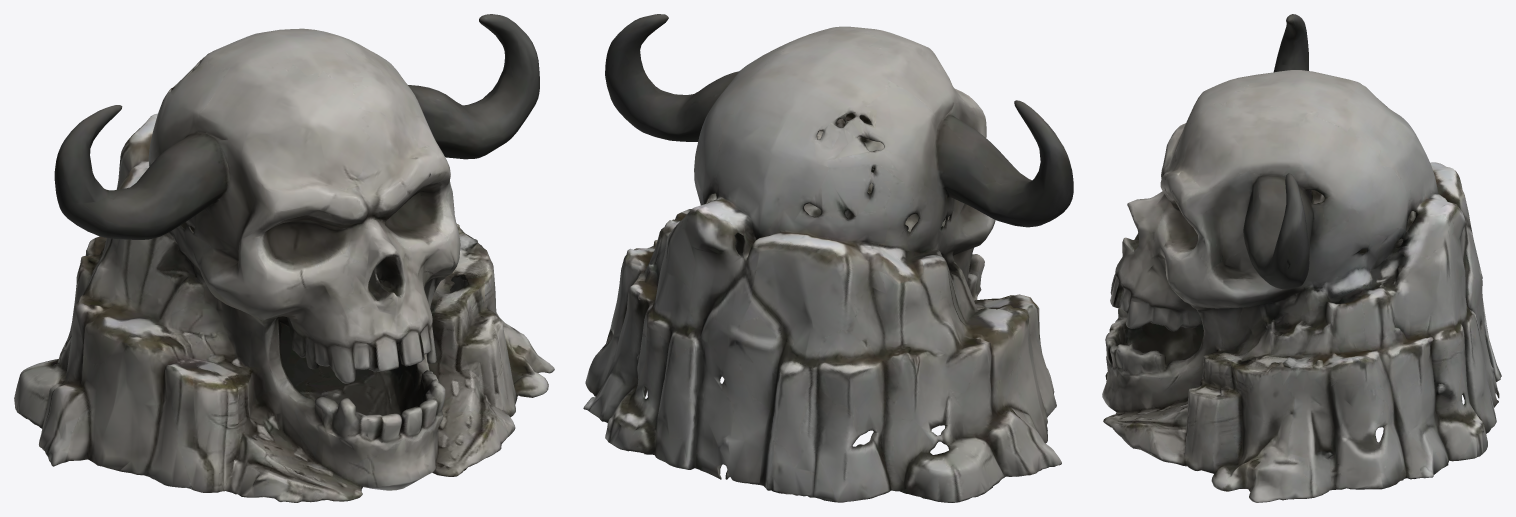
Rendered from skull-island.opt.glb.
The picture shows the model from 3 angles, left to right: view 1: azimuth 30°, elevation 25°; view 2: azimuth 150°, elevation 25°; view 3: azimuth 270°, elevation 25°; orthographic projection. The views are drawn at different scales.
Bounding box in the file's own units: 2 × 1.47 × 1.66.
Materials: 1 (1 with a texture image).
